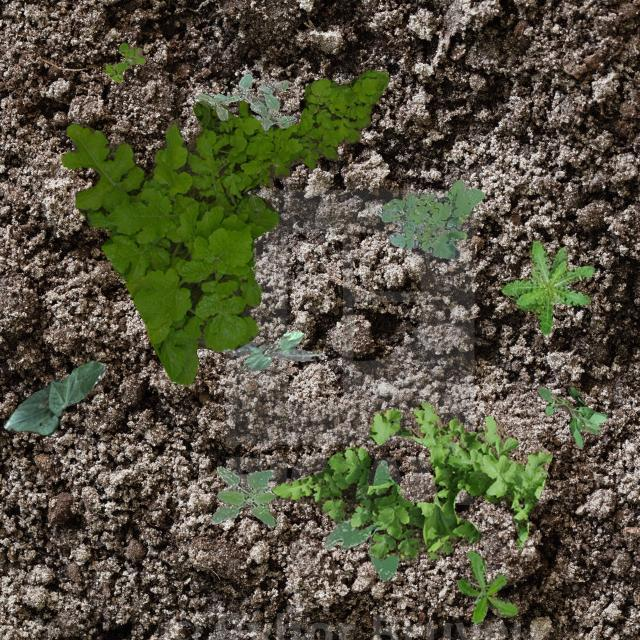crop: (2, 360, 104, 434), (240, 330, 304, 370), (220, 340, 322, 360), (252, 114, 260, 120)
weed: (61, 118, 278, 384), (269, 401, 552, 564), (192, 68, 386, 204), (322, 460, 398, 580), (499, 240, 594, 334), (376, 178, 484, 258), (194, 70, 296, 130), (456, 548, 516, 624), (536, 384, 606, 448), (208, 464, 276, 526), (104, 42, 144, 82)
